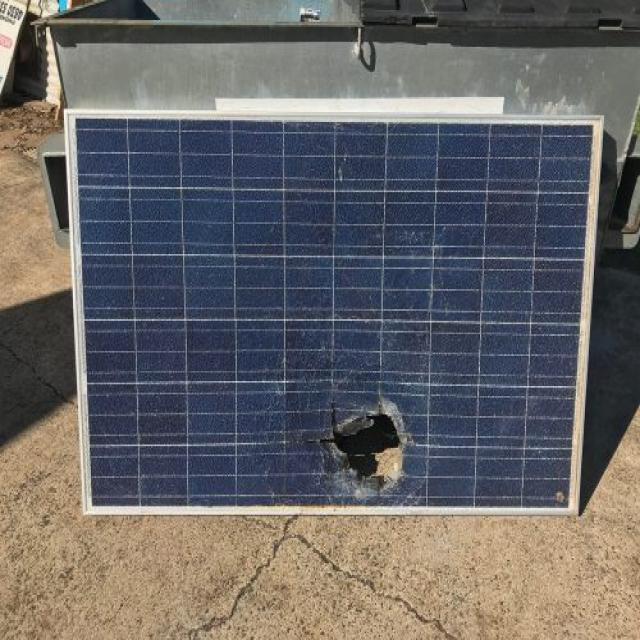faulty: (70, 116, 604, 512)
